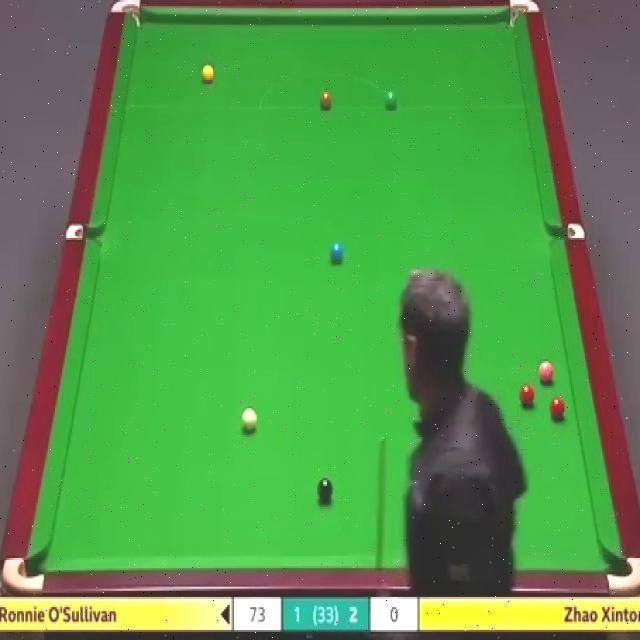black-ball: (317, 475, 334, 504)
blue-ball: (331, 242, 343, 266)
brown-ball: (320, 93, 333, 111)
green-ball: (385, 91, 397, 110)
pink-ball: (538, 360, 556, 386)
red-ball: (549, 399, 566, 420), (520, 386, 536, 407)
white-ball: (238, 407, 258, 435)
yellow-ball: (201, 65, 216, 87)
